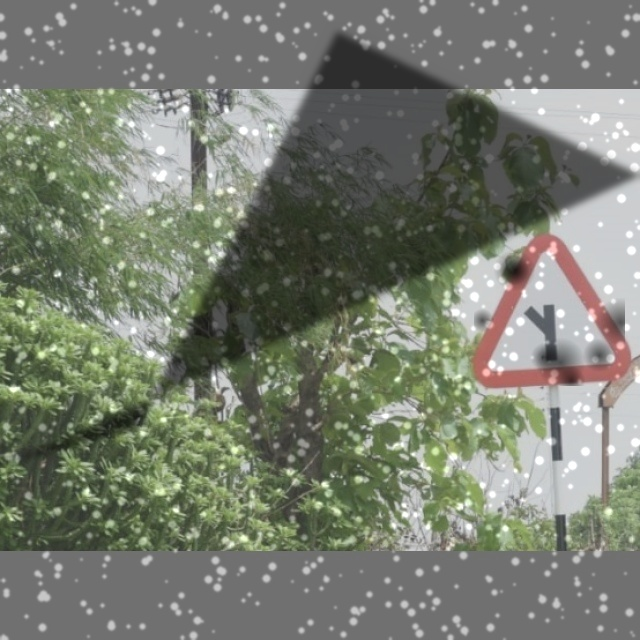Y_Intersection: (474, 236, 625, 386)
